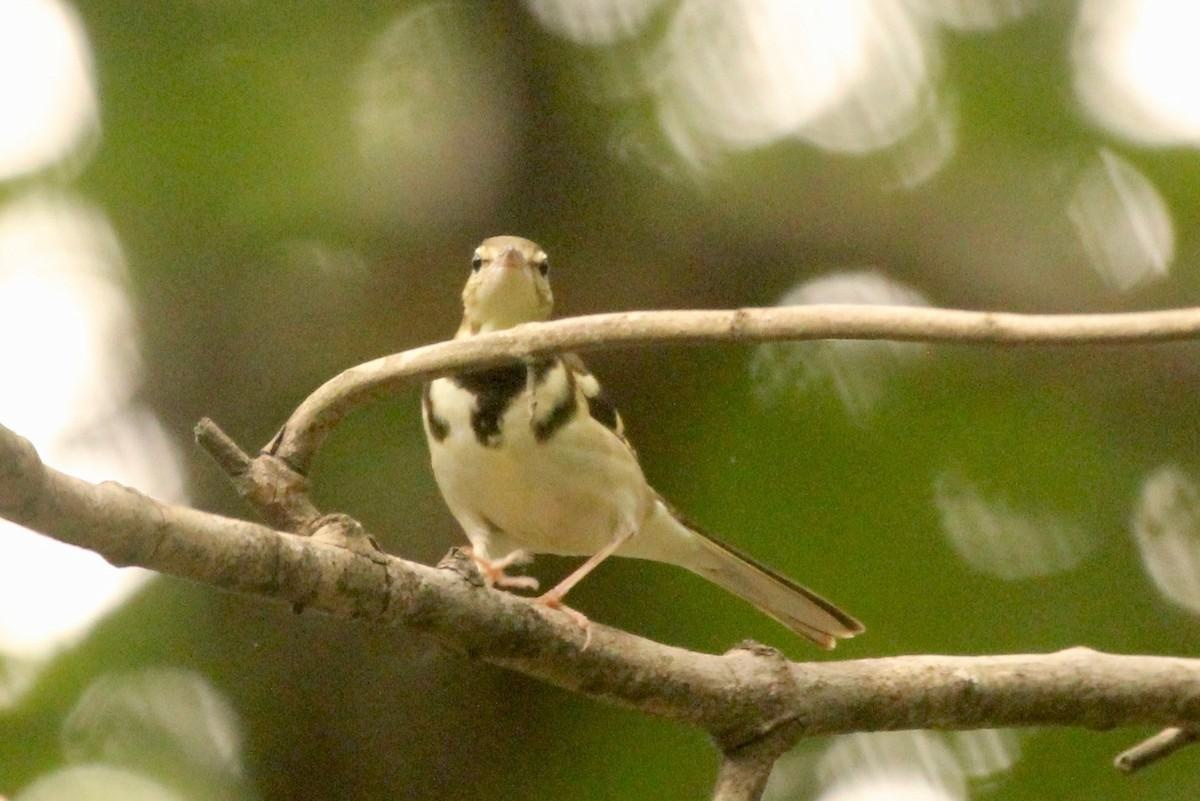wagtail: (404, 196, 879, 700)
